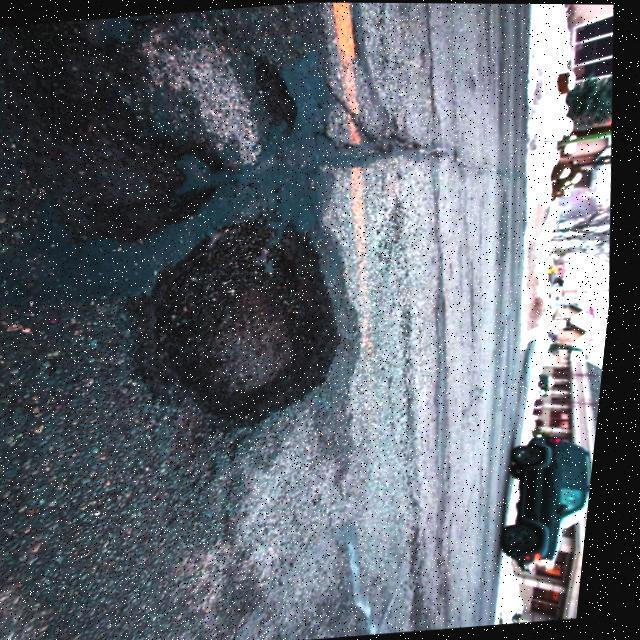pothole: (120, 212, 366, 439), (17, 84, 242, 254), (128, 3, 324, 174), (24, 9, 210, 74)
